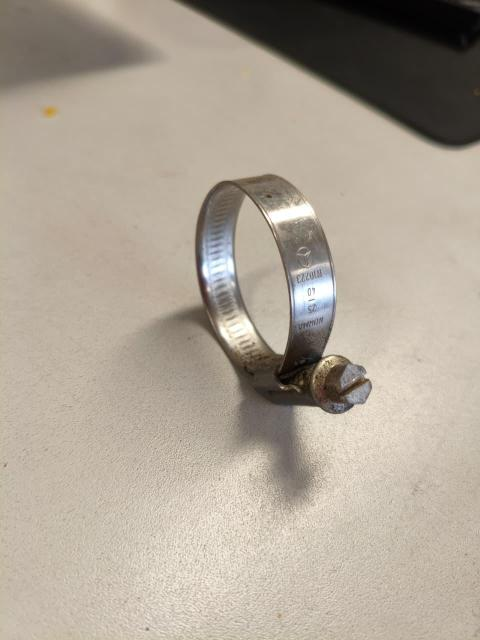Metal: (192, 168, 377, 415)
